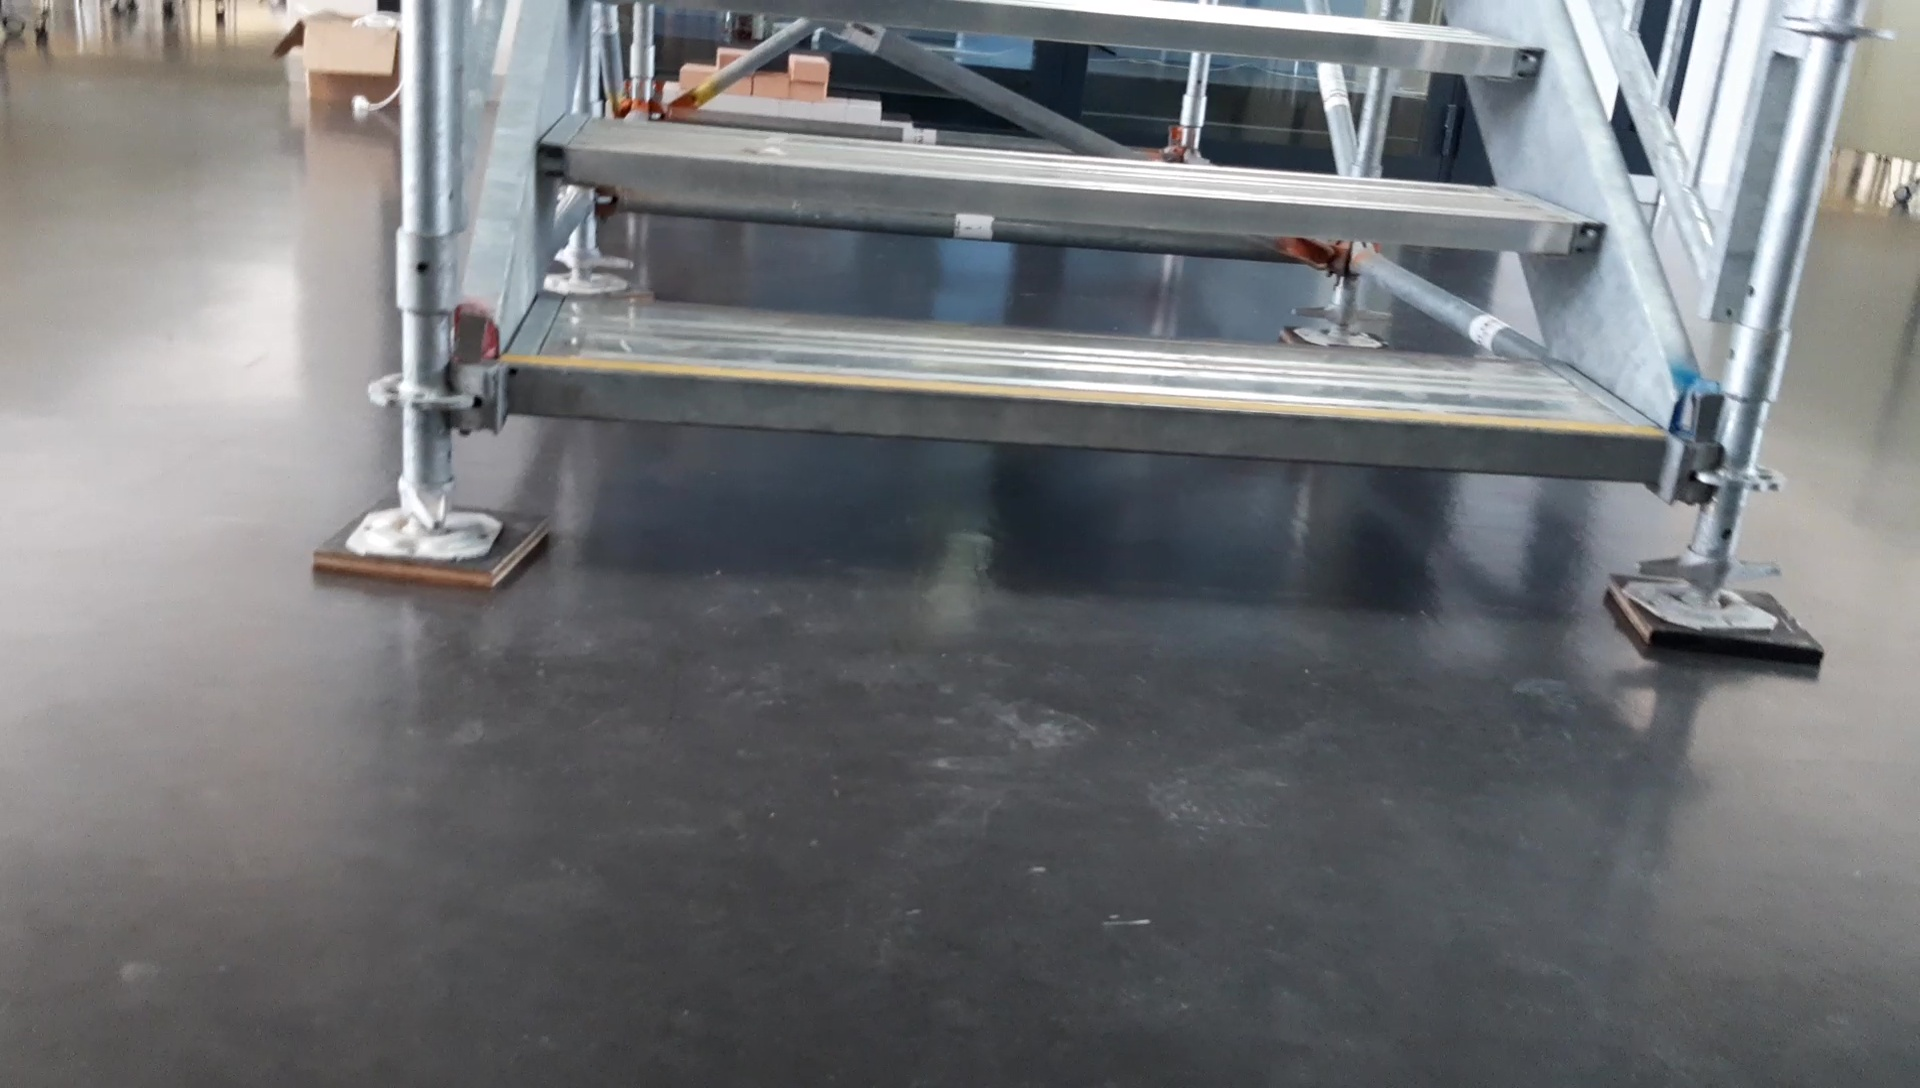brick: (790, 55, 824, 80), (754, 73, 793, 95), (848, 100, 881, 125), (781, 100, 818, 119), (712, 95, 746, 115), (793, 78, 825, 98), (818, 98, 845, 120), (750, 98, 779, 115)
edge: (498, 355, 1668, 483), (535, 142, 1602, 255)
stairs: (310, 3, 1822, 678)
